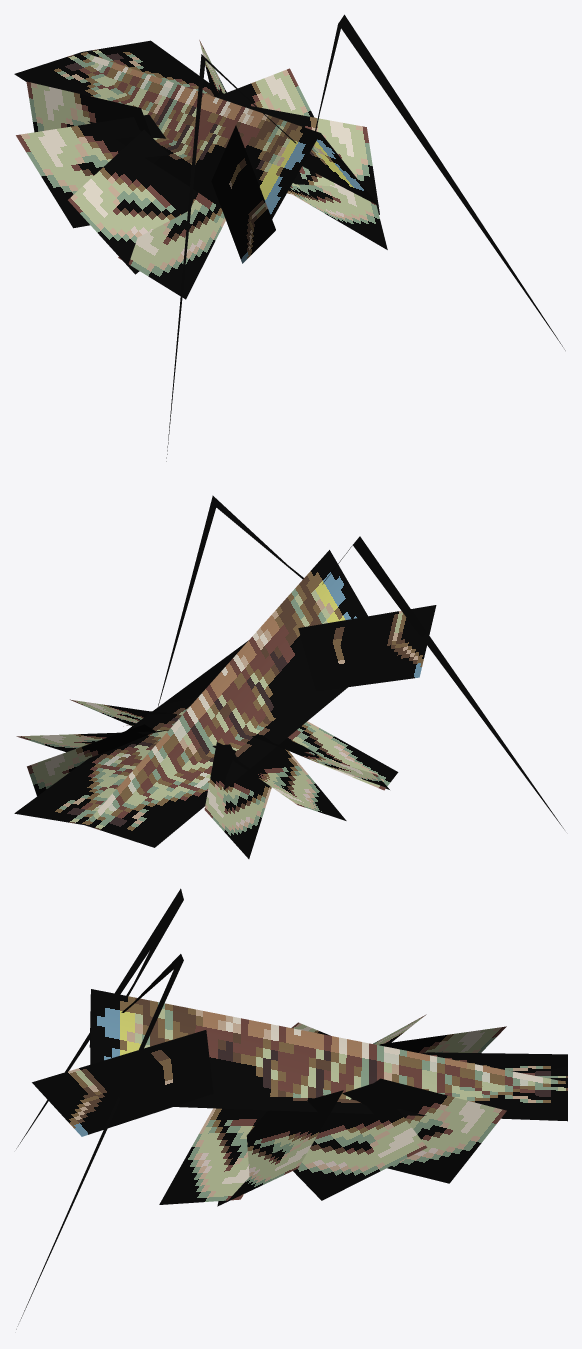
3 views of the same model, one above another, from view 1: azimuth 30°, elevation 25°; view 2: azimuth 150°, elevation 25°; view 3: azimuth 270°, elevation 25° (orthographic). The views are drawn at different scales.
Visible parts, largest first — view 1: 4865fish75; view 2: 4865fish75; view 3: 4865fish75.
Part boxes in pixels (<box>): 4865fish75: <box>14,14,565,461</box>; 4865fish75: <box>14,495,564,858</box>; 4865fish75: <box>16,888,567,1329</box>.
Bounding box in the file's own units: 0.4861 × 0.378 × 0.5801.
Materials: 1 (1 with a texture image).
